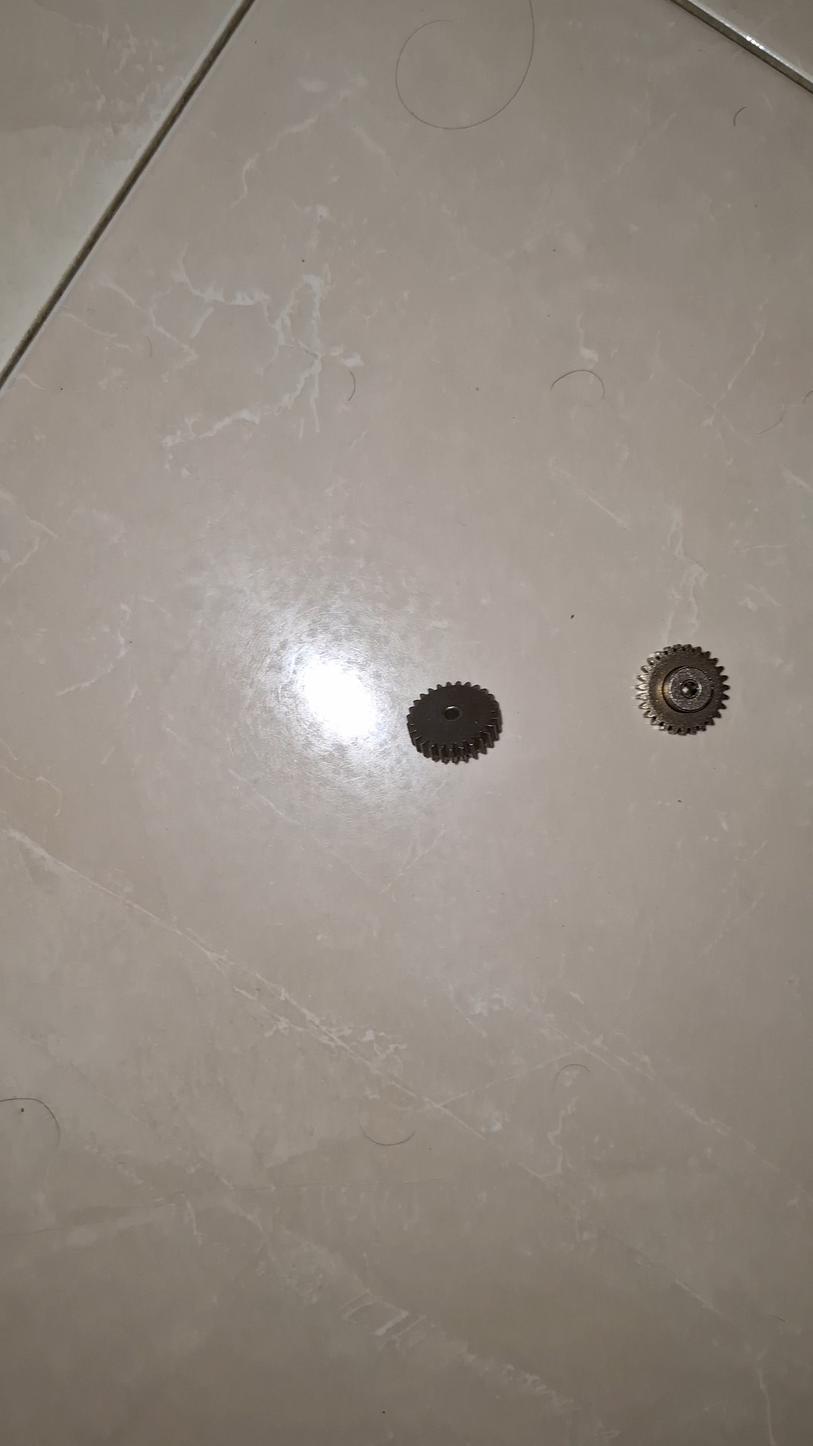spur gear: (636, 645, 728, 734), (406, 683, 502, 763)
